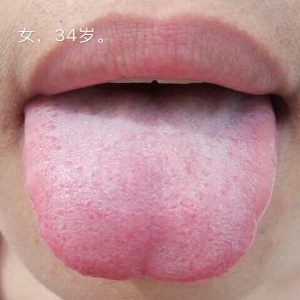st: (27, 102, 269, 278)
